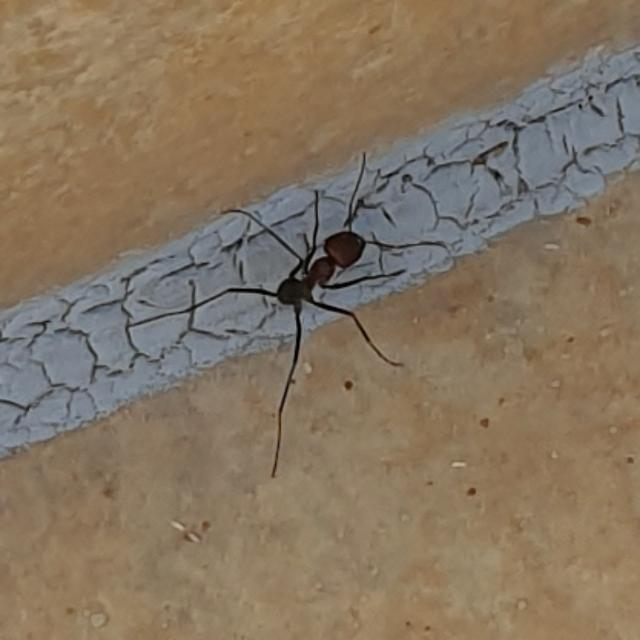Cataglyphis: (229, 185, 395, 362)
